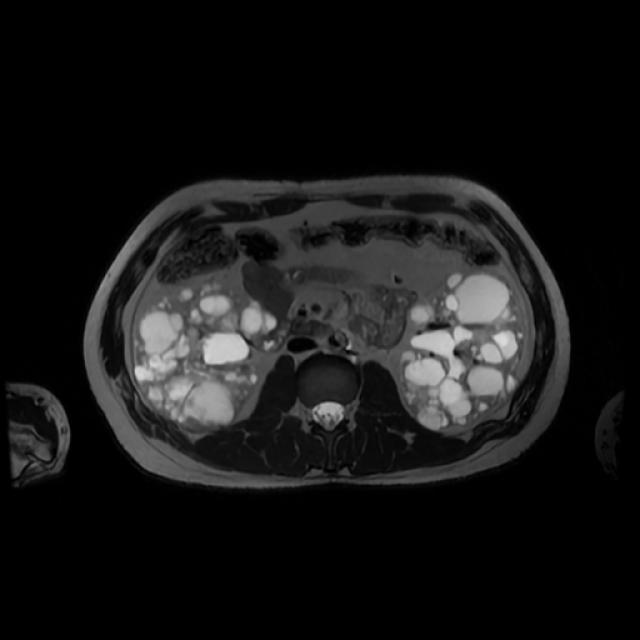sag: (138, 285, 278, 430)
sol: (401, 272, 524, 428)
